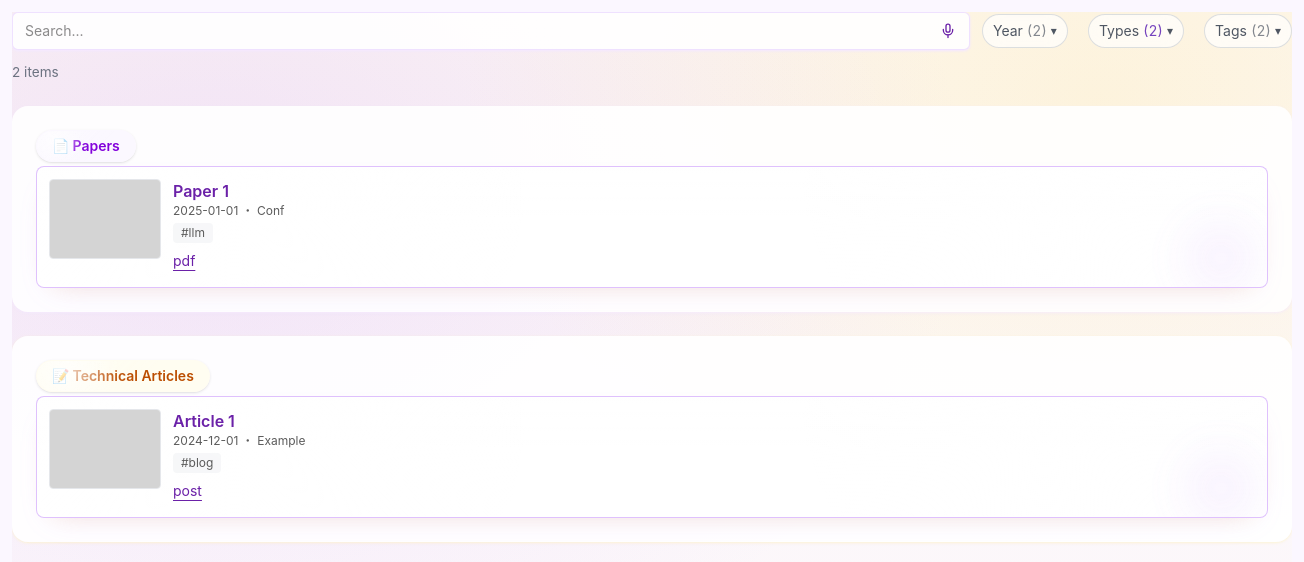
Test: PublicationsClient › highlights matching publication metadata fragments
Type "conf" into the field labelled "Search...".
click(491, 31); type("conf")  # box [12,12,970,50]
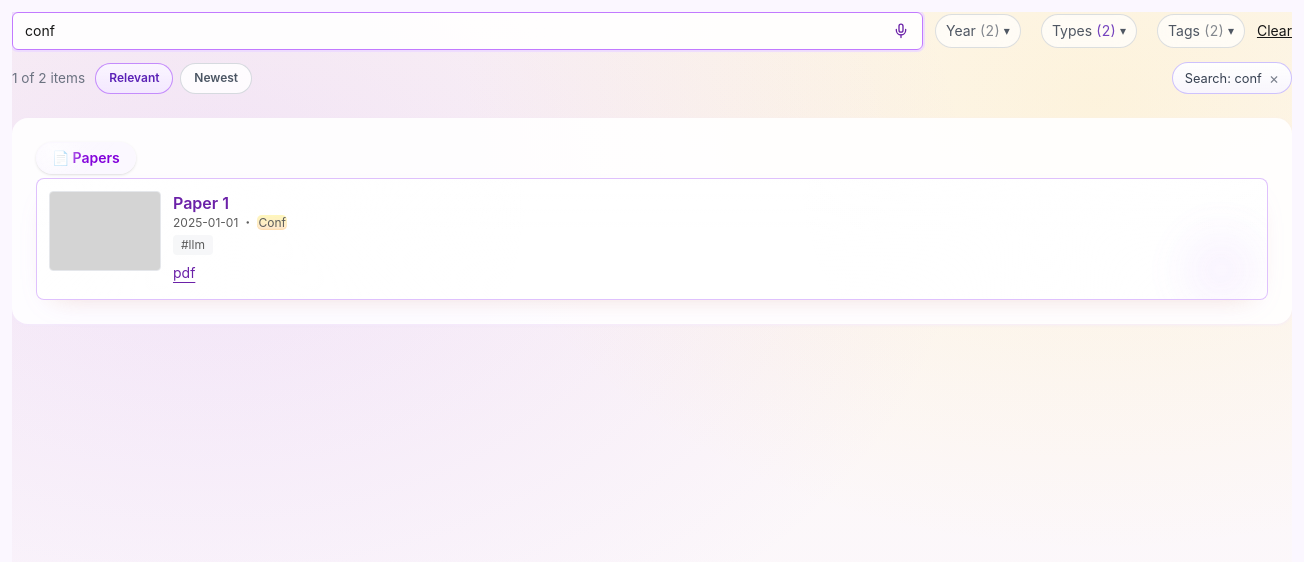
Expected: the text "Conf" is shown, [257,215,287,230]
